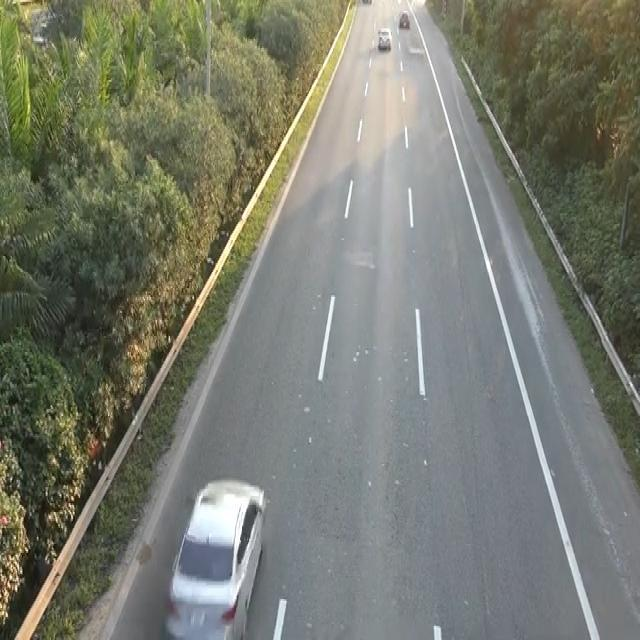bus: (162, 473, 267, 636)
